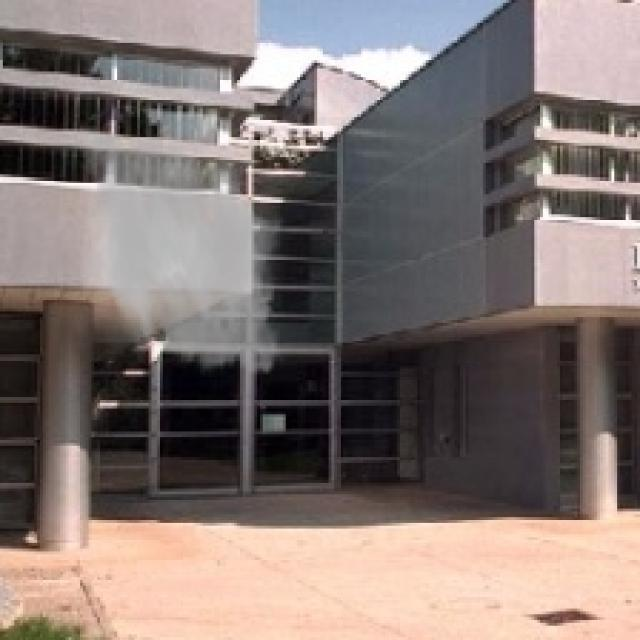Smoke: (68, 120, 300, 386)
